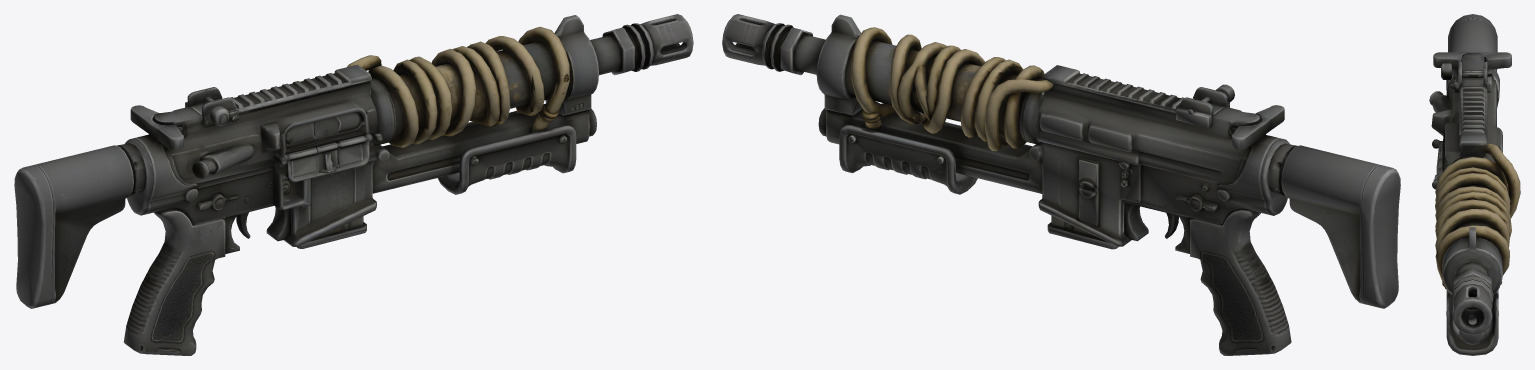
File: selected.fbx
The picture shows the model from 3 angles, left to right: view 1: azimuth 30°, elevation 25°; view 2: azimuth 150°, elevation 25°; view 3: azimuth 270°, elevation 25°; orthographic projection. The views are drawn at different scales.
Visible parts, largest first — view 1: tripo_node_4b11d77a-aa84-40d4-ac47-48f2e98f4a00; view 2: tripo_node_4b11d77a-aa84-40d4-ac47-48f2e98f4a00; view 3: tripo_node_4b11d77a-aa84-40d4-ac47-48f2e98f4a00.
Boxes of the visible parts, x1=… form: tripo_node_4b11d77a-aa84-40d4-ac47-48f2e98f4a00: x1=14, y1=14, x2=693, y2=355; tripo_node_4b11d77a-aa84-40d4-ac47-48f2e98f4a00: x1=722, y1=14, x2=1400, y2=355; tripo_node_4b11d77a-aa84-40d4-ac47-48f2e98f4a00: x1=1429, y1=14, x2=1520, y2=355.
Bounding box in the file's own units: 0.9995 × 0.3608 × 0.1362.
1 material, 1 textured.
